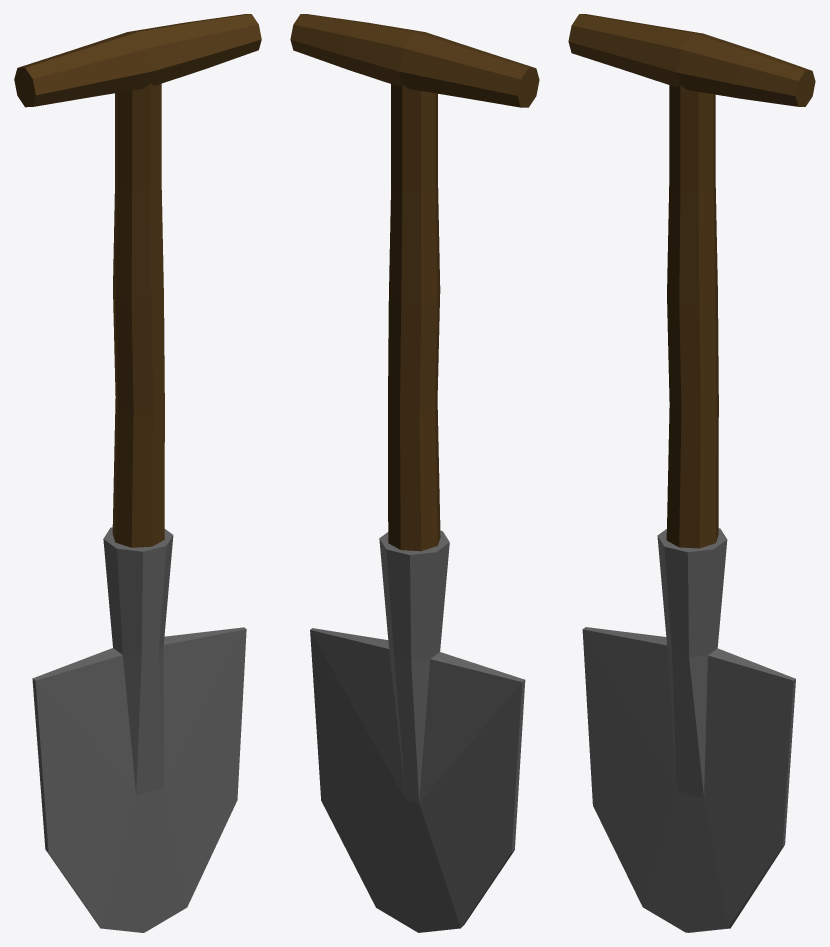
The model's file is ShovelSmall.glb.
3 views of the same model, side by side, from view 1: azimuth 30°, elevation 25°; view 2: azimuth 150°, elevation 25°; view 3: azimuth 330°, elevation 25° (orthographic).
Visible parts, largest first — view 1: Shovel Small; view 2: Shovel Small; view 3: Shovel Small.
Part boxes in pixels (x1=…): Shovel Small: x1=14, y1=14, x2=261, y2=932; Shovel Small: x1=290, y1=14, x2=539, y2=932; Shovel Small: x1=568, y1=14, x2=815, y2=932.
Bounding box in the file's own units: 0.2715 × 1.03 × 0.0677.
Materials: 1 (1 with a texture image).
